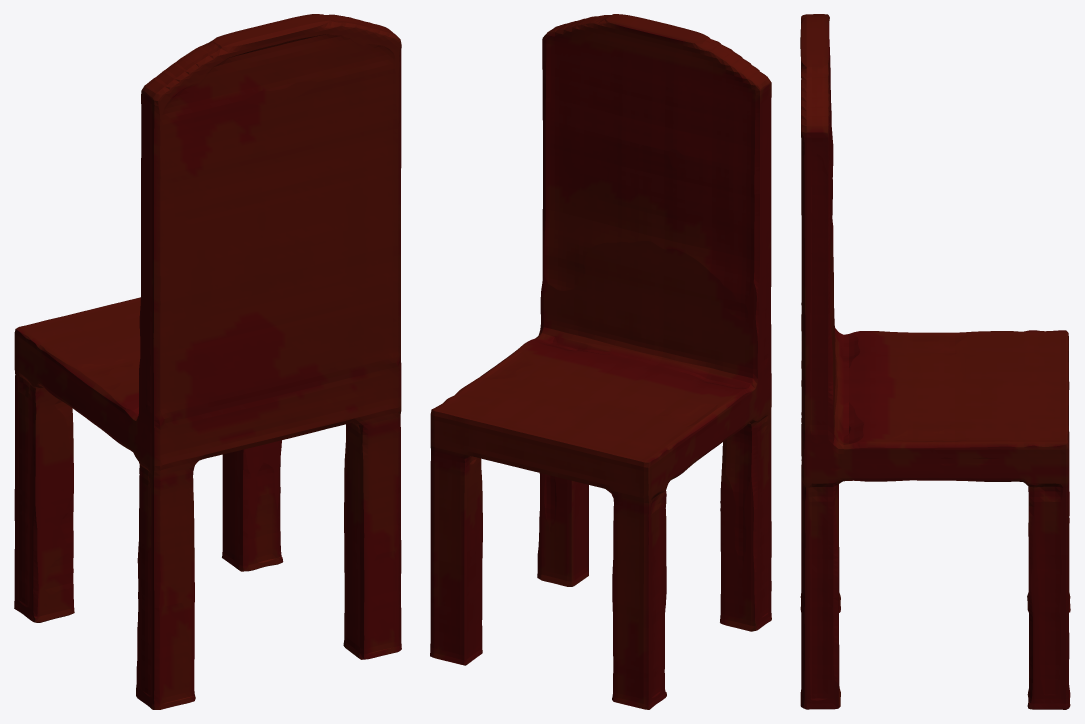
Rendered from chair_ahead.glb.
3 views of the same model, side by side, from view 1: azimuth 30°, elevation 25°; view 2: azimuth 150°, elevation 25°; view 3: azimuth 270°, elevation 25° (orthographic). The views are drawn at different scales.
Parts seen in each view (by area): view 1: tmp88rxbht8.ply; view 2: tmp88rxbht8.ply; view 3: tmp88rxbht8.ply.
Part boxes in pixels (x1,y1,x2,y2): tmp88rxbht8.ply: [14, 14, 401, 709]; tmp88rxbht8.ply: [430, 14, 771, 709]; tmp88rxbht8.ply: [800, 14, 1070, 709].
Size of the model in its own units: 0.8014 by 1.98 by 0.7913.
